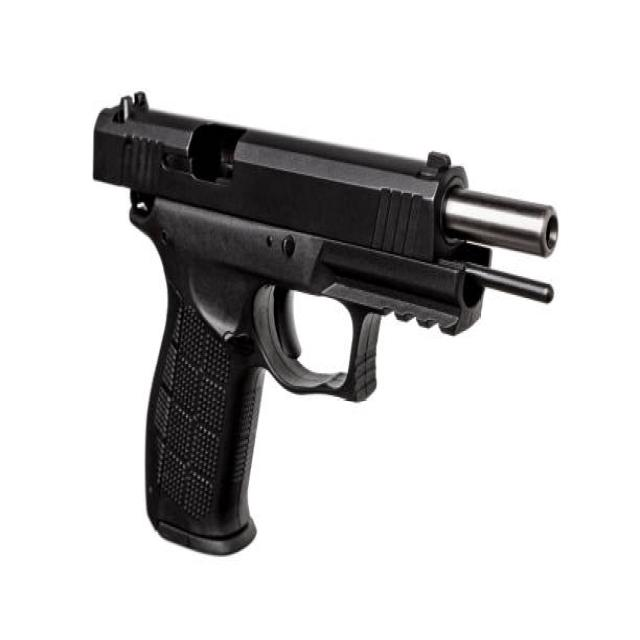pistol: (86, 85, 564, 561)
